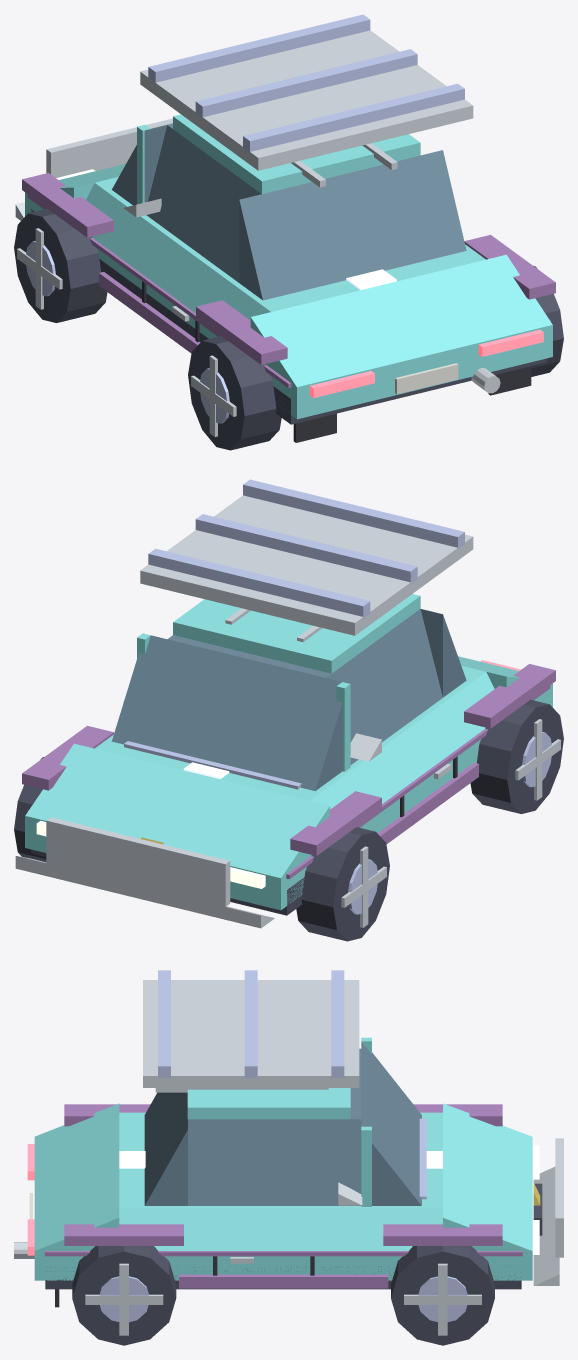
File: rooftop_taxi.glb
The picture shows the model from 3 angles, top to bottom: view 1: azimuth 30°, elevation 25°; view 2: azimuth 150°, elevation 25°; view 3: azimuth 270°, elevation 25°; orthographic projection. The views are drawn at different scales.
Visible parts, largest first — view 1: RearWindow.142, Tail.042, RoofRack.012, CabinSideL.039, ShoulderL.039, Body.242, Wheel_RL.202, Wheel_FL.202, Roof.242, RackBar0.013, RackBar-0.013, RackBar1.013 (+22 smaller); view 2: Windshield.142, Nose.039, RoofRack.012, Bullbar.020, CabinSideL.039, Roof.242, ShoulderL.039, Wheel_FL.202, Wheel_RL.202, Body.242, RackBar-0.013, RackBar0.013 (+20 smaller); view 3: RoofRack.012, CabinSideR.039, ShoulderR.039, Nose.039, Tail.042, Windshield.142, Body.242, Wheel_RR.202, Wheel_FR.202, Roof.242, RearWindow.142, BodyUpper.039 (+22 smaller).
Part boxes in pixels (bbox=[...]): RearWindow.142: bbox=[239, 150, 466, 300]; Tail.042: bbox=[250, 254, 552, 387]; RoofRack.012: bbox=[140, 30, 473, 170]; CabinSideL.039: bbox=[146, 125, 261, 282]; ShoulderL.039: bbox=[86, 183, 270, 320]; Body.242: bbox=[25, 192, 552, 419]; Wheel_RL.202: bbox=[188, 336, 281, 450]; Wheel_FL.202: bbox=[14, 208, 107, 322]; Roof.242: bbox=[173, 114, 420, 193]; RackBar0.013: bbox=[195, 49, 417, 118]; RackBar-0.013: bbox=[148, 14, 370, 84]; RackBar1.013: bbox=[243, 83, 464, 153]; Windshield.142: bbox=[111, 635, 342, 790]; Nose.039: bbox=[25, 743, 329, 877]; RoofRack.012: bbox=[140, 495, 473, 635]; Bullbar.020: bbox=[46, 817, 230, 906]; CabinSideL.039: bbox=[326, 609, 442, 764]; Roof.242: bbox=[173, 594, 420, 673]; ShoulderL.039: bbox=[310, 672, 494, 809]; Wheel_FL.202: bbox=[296, 827, 389, 941]; Wheel_RL.202: bbox=[470, 699, 563, 813]; Body.242: bbox=[25, 683, 552, 910]; RackBar-0.013: bbox=[148, 548, 370, 618]; RackBar0.013: bbox=[195, 514, 417, 582]; RoofRack.012: bbox=[143, 980, 359, 1087]; CabinSideR.039: bbox=[188, 1119, 361, 1205]; ShoulderR.039: bbox=[119, 1208, 442, 1250]; Nose.039: bbox=[443, 1103, 532, 1250]; Tail.042: bbox=[34, 1103, 119, 1250]; Windshield.142: bbox=[361, 1042, 421, 1205]; Body.242: bbox=[34, 1251, 532, 1280]; Wheel_RR.202: bbox=[72, 1246, 176, 1345]; Wheel_FR.202: bbox=[391, 1246, 494, 1345]; Roof.242: bbox=[187, 1088, 350, 1119]; RearWindow.142: bbox=[144, 1092, 187, 1205]; BodyUpper.039: bbox=[119, 1112, 442, 1208].
Size of the model in its own units: 3.2 by 2.61 by 5.08.
